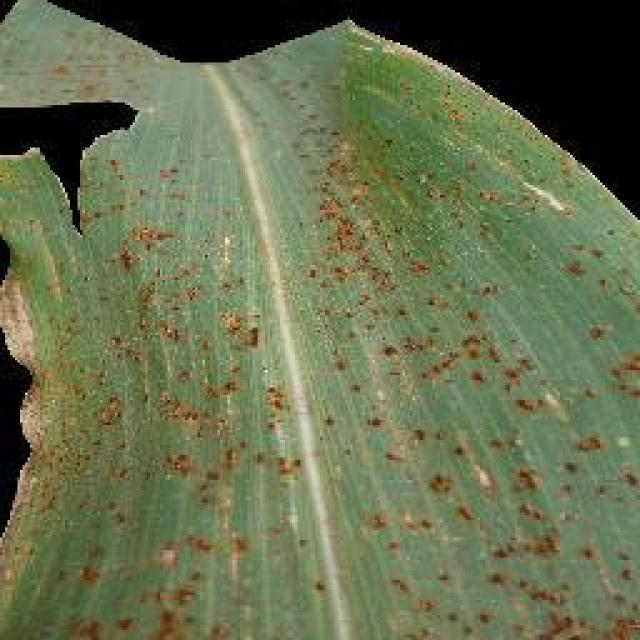Corn Common Rust: (152, 93, 572, 595)
